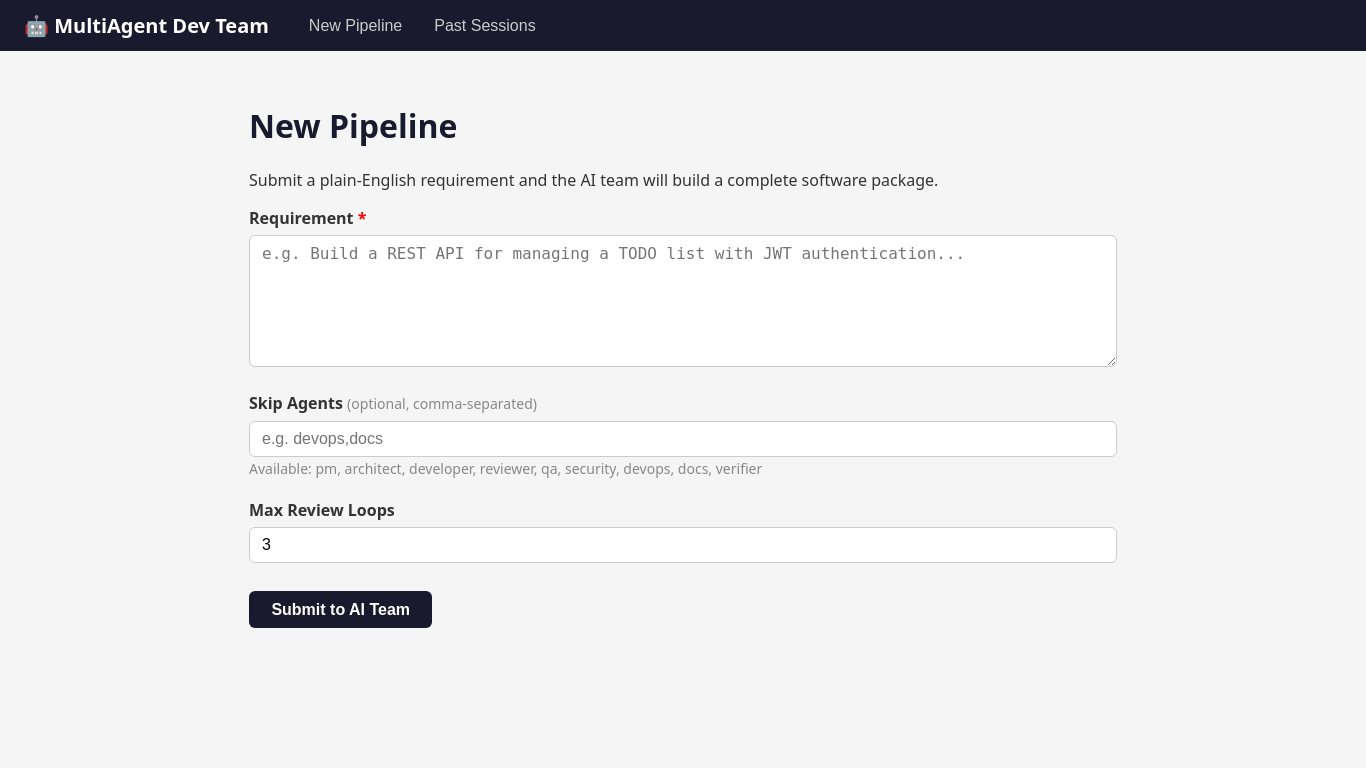
it: App › shows new pipeline button after completion
Type "Build a TODO REST API with authentication" into the text box with test id "requirement-input" at (683, 301), box [249,235,1117,367]
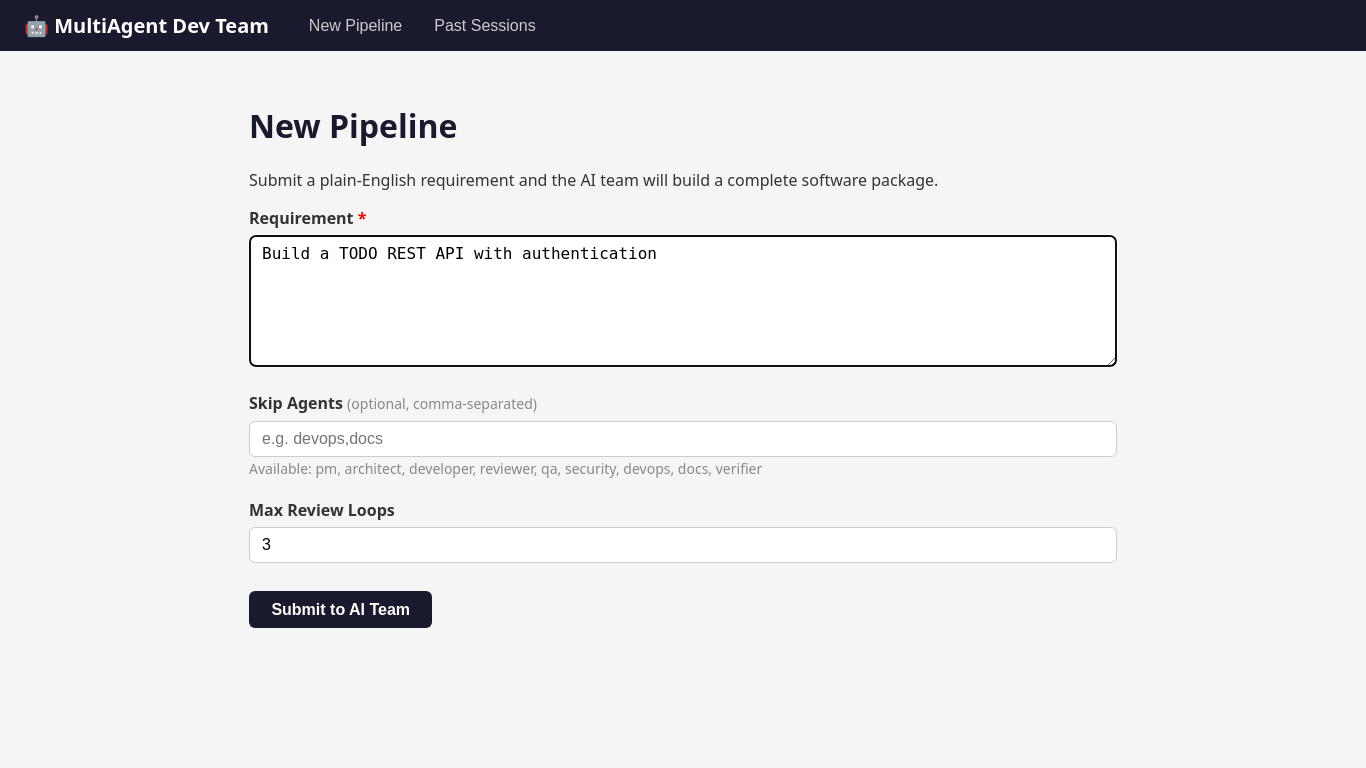
Submit the form with test id "pipeline-form", box [249,207,1117,628]
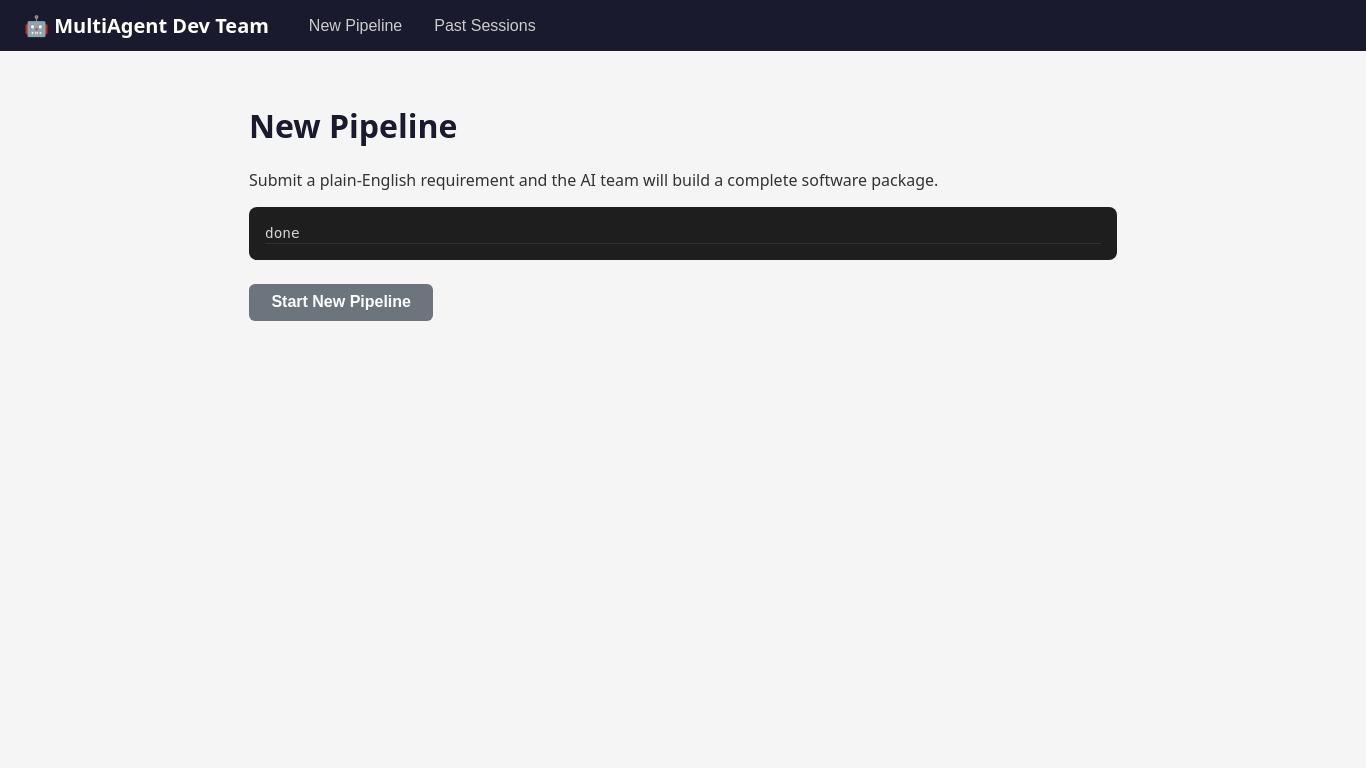
Expected: the button with test id "new-pipeline-btn" is shown, [249,284,433,321]
